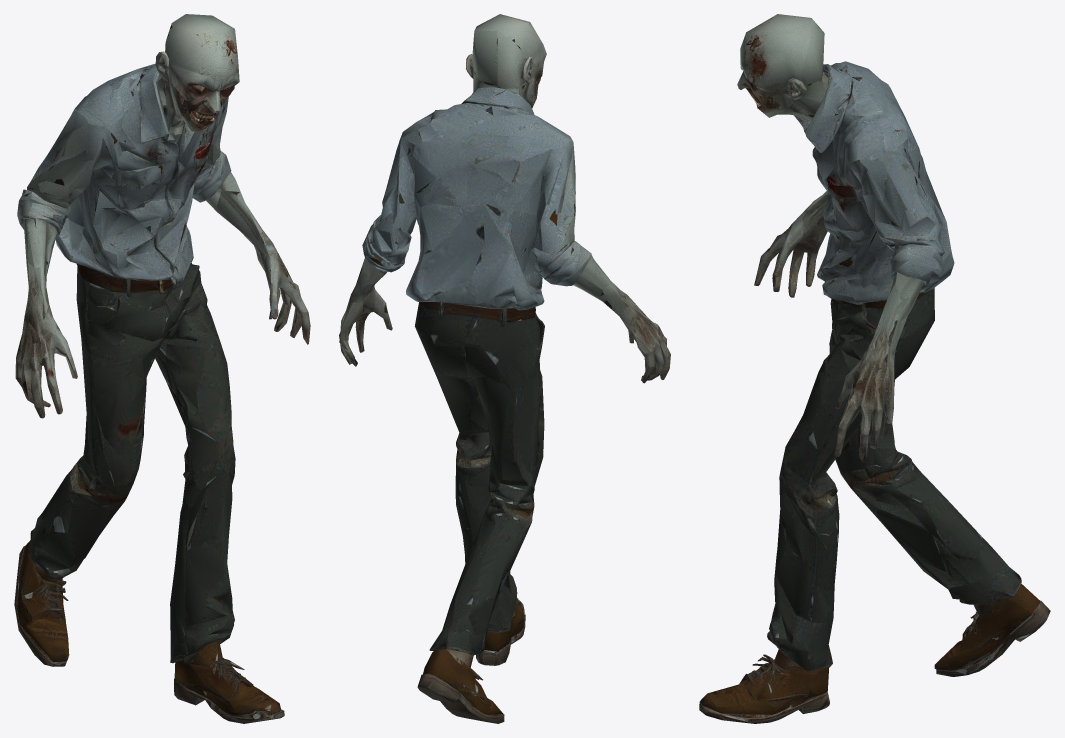
Rendered from zombie-shambler.glb.
3 renders of one model, left to right at view 1: azimuth 30°, elevation 25°; view 2: azimuth 150°, elevation 25°; view 3: azimuth 270°, elevation 25°, orthographic. The views are drawn at different scales.
Size of the model in its own units: 0.9172 by 1.89 by 0.88.
Materials: 1 (1 with a texture image).
